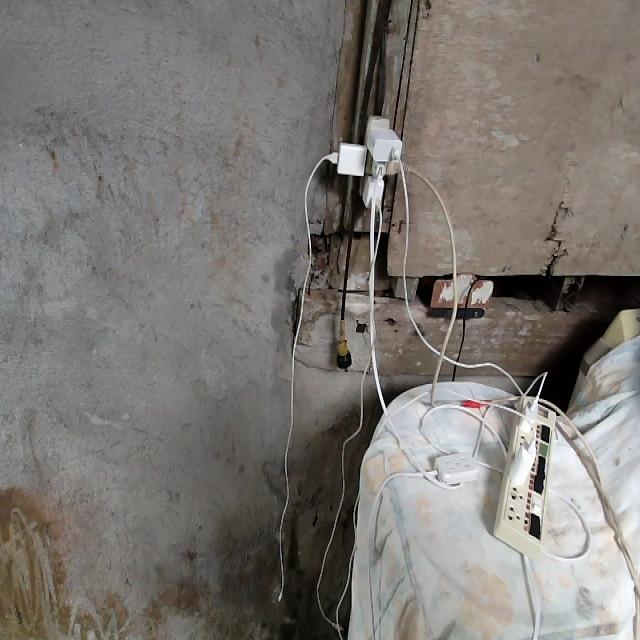-: (326, 115, 413, 212)
